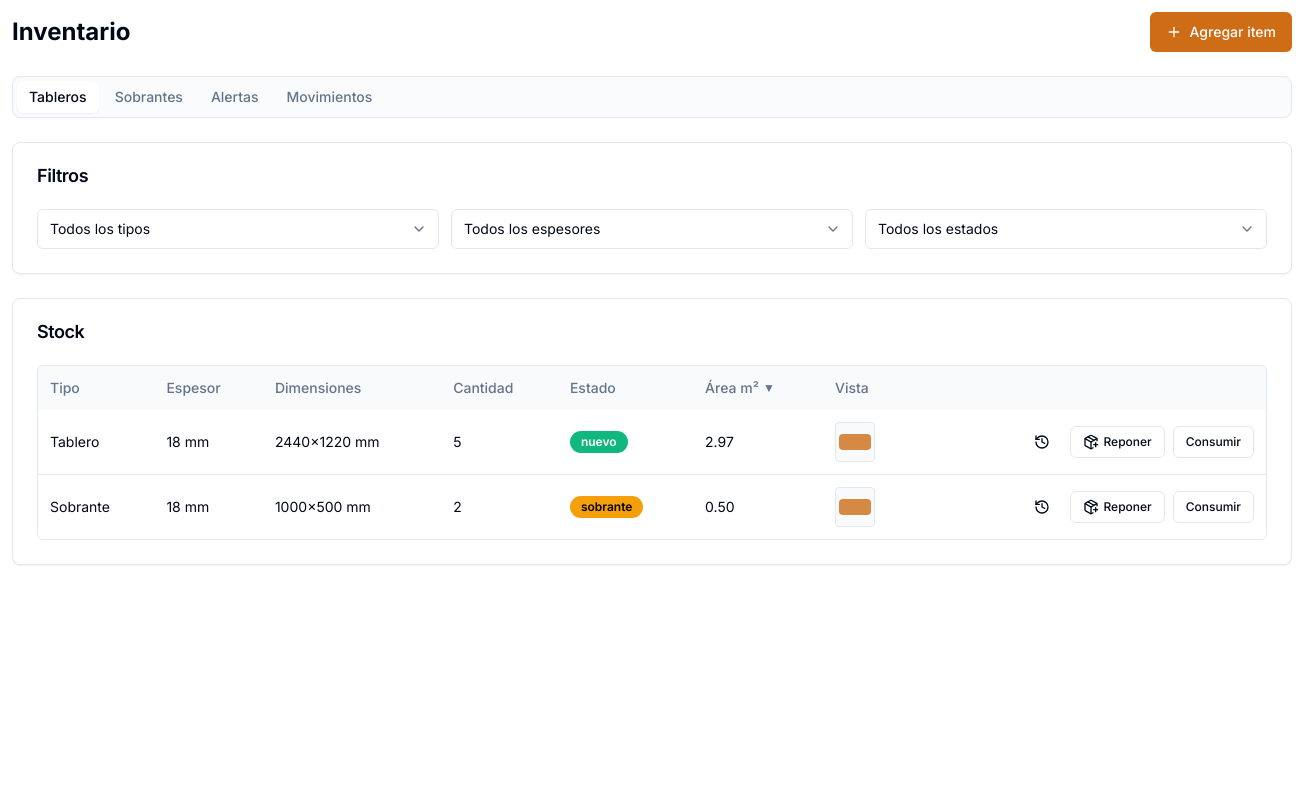
it: InventoryPage › filters by estado
Check: the text "2440×1220 mm" is shown, box [263,410,441,474]
Select "Sobrante" in the 3rd dropdown showing "Todos los estados" at point(1066, 229), box [865,209,1267,249]
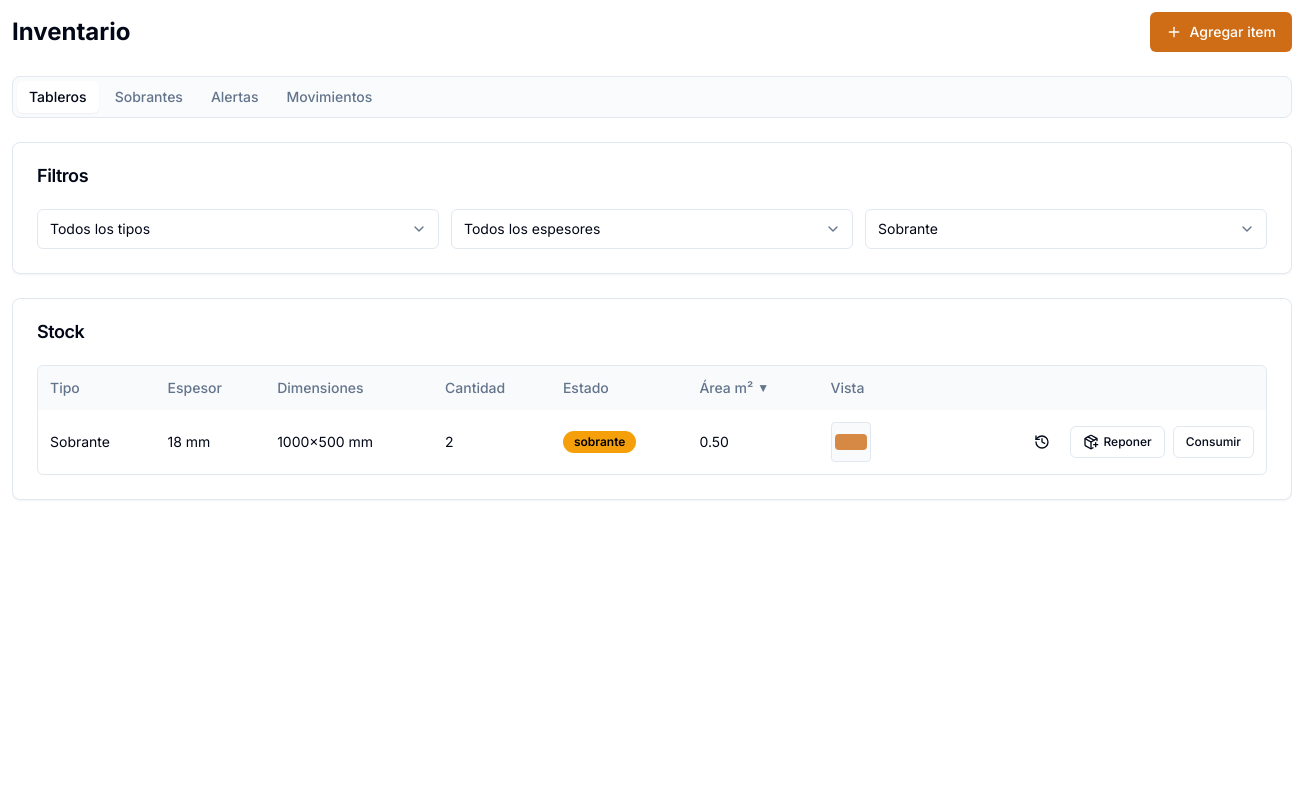
Check: the text "1000×500 mm" is shown, box [265,410,433,474]
Check: the text "2440×1220 mm" is gone
